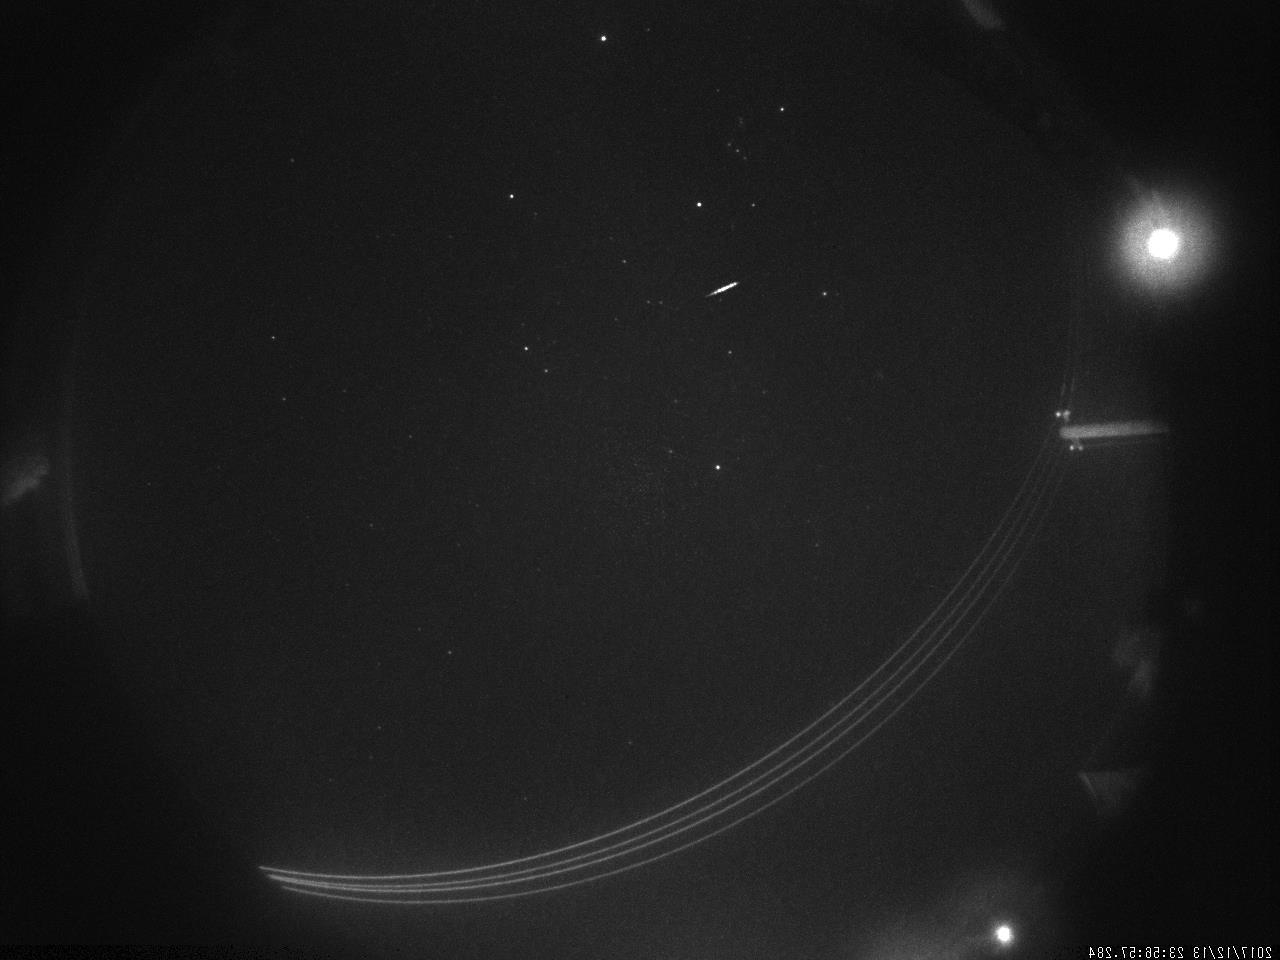meteor: (703, 275, 742, 307)
